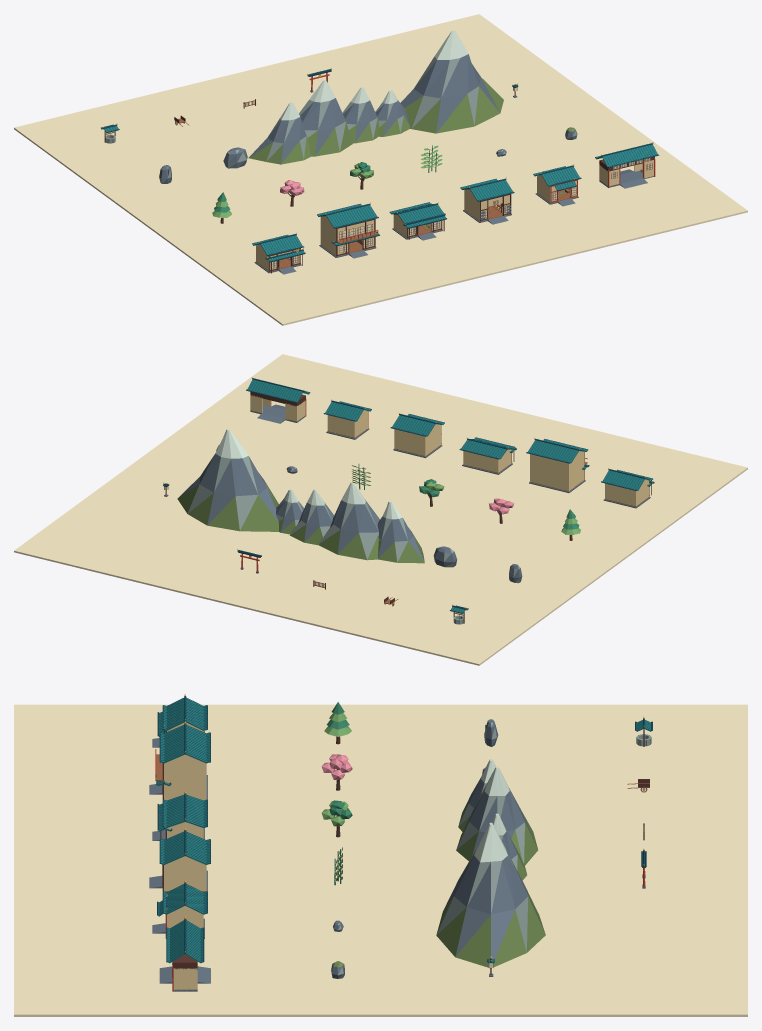
File: showcase.glb
3 views of the same model, one above another, from view 1: azimuth 30°, elevation 25°; view 2: azimuth 150°, elevation 25°; view 3: azimuth 270°, elevation 25° (orthographic). The views are drawn at different scales.
Visible parts, largest first — view 1: Showcase ground, sacred_peak, twin_summit, long_ridge, CP_Roof.001, CP_Wall_Front.001, CP_Roof.005, CP_Roof.002, CP_Roof, CP_Roof.003, CP_Roof.004, CP_Wall_Front.005; view 2: Showcase ground, sacred_peak, twin_summit, long_ridge, CP_Wall_Back.001, CP_Roof.005, CP_Roof.001, CP_Roof.003, CP_Roof.002, CP_Roof, CP_Wall_Back.003, CP_Roof.004; view 3: Showcase ground, sacred_peak, twin_summit, CP_Roof.001, CP_Roof.005, CP_Roof.002, CP_Wall_Right.001, CP_Roof.003, CP_Roof, CP_Roof.004, CP_Wall_Right.003, long_ridge (+4 smaller).
Boxes of the visible parts, x1,y1,x2,y2 form: Showcase ground: (14, 14, 747, 325); sacred_peak: (400, 30, 503, 133); twin_summit: (248, 80, 352, 164); long_ridge: (342, 87, 409, 143); CP_Roof.001: (317, 202, 379, 246); CP_Wall_Front.001: (336, 219, 378, 256); CP_Roof.005: (595, 142, 659, 171); CP_Roof.002: (389, 202, 446, 228); CP_Roof: (252, 233, 305, 262); CP_Roof.003: (460, 177, 514, 201); CP_Roof.004: (533, 164, 581, 191); CP_Wall_Front.005: (608, 157, 655, 187); Showcase ground: (14, 354, 747, 665); sacred_peak: (177, 429, 278, 531); twin_summit: (319, 482, 424, 563); long_ridge: (276, 489, 334, 545); CP_Wall_Back.001: (530, 454, 569, 491); CP_Roof.005: (246, 377, 310, 406); CP_Roof.001: (526, 437, 589, 469); CP_Roof.003: (390, 413, 444, 436); CP_Roof.002: (459, 437, 516, 459); CP_Roof: (601, 468, 654, 490); CP_Wall_Back.003: (394, 429, 425, 456); CP_Roof.004: (323, 399, 371, 421); Showcase ground: (14, 704, 747, 1016); sacred_peak: (436, 822, 545, 967); twin_summit: (456, 759, 537, 865); CP_Roof.001: (156, 721, 210, 786); CP_Roof.005: (166, 916, 204, 969); CP_Roof.002: (157, 791, 207, 831); CP_Wall_Right.001: (164, 762, 206, 800); CP_Roof.003: (159, 828, 210, 864); CP_Roof: (157, 694, 207, 737); CP_Roof.004: (157, 880, 207, 916); CP_Wall_Right.003: (164, 864, 206, 891); long_ridge: (491, 813, 527, 880).
Bounding box in the file's own units: 120 × 20.4 × 120.
